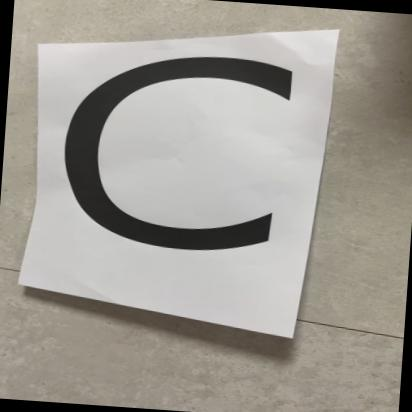seat: (40, 11, 342, 331)
